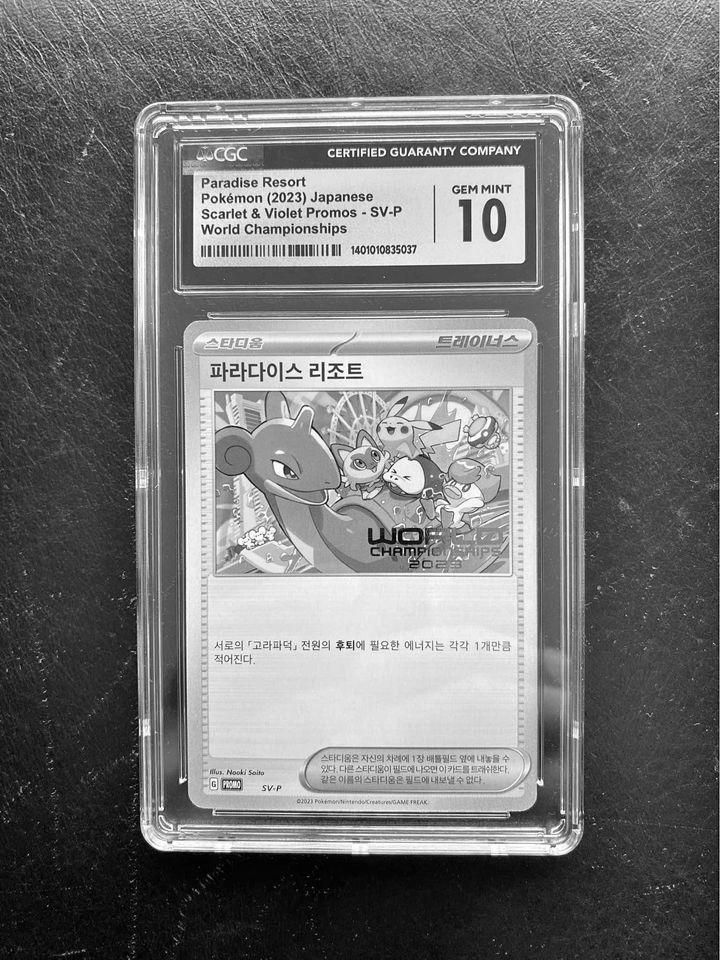card: (183, 316, 539, 812)
